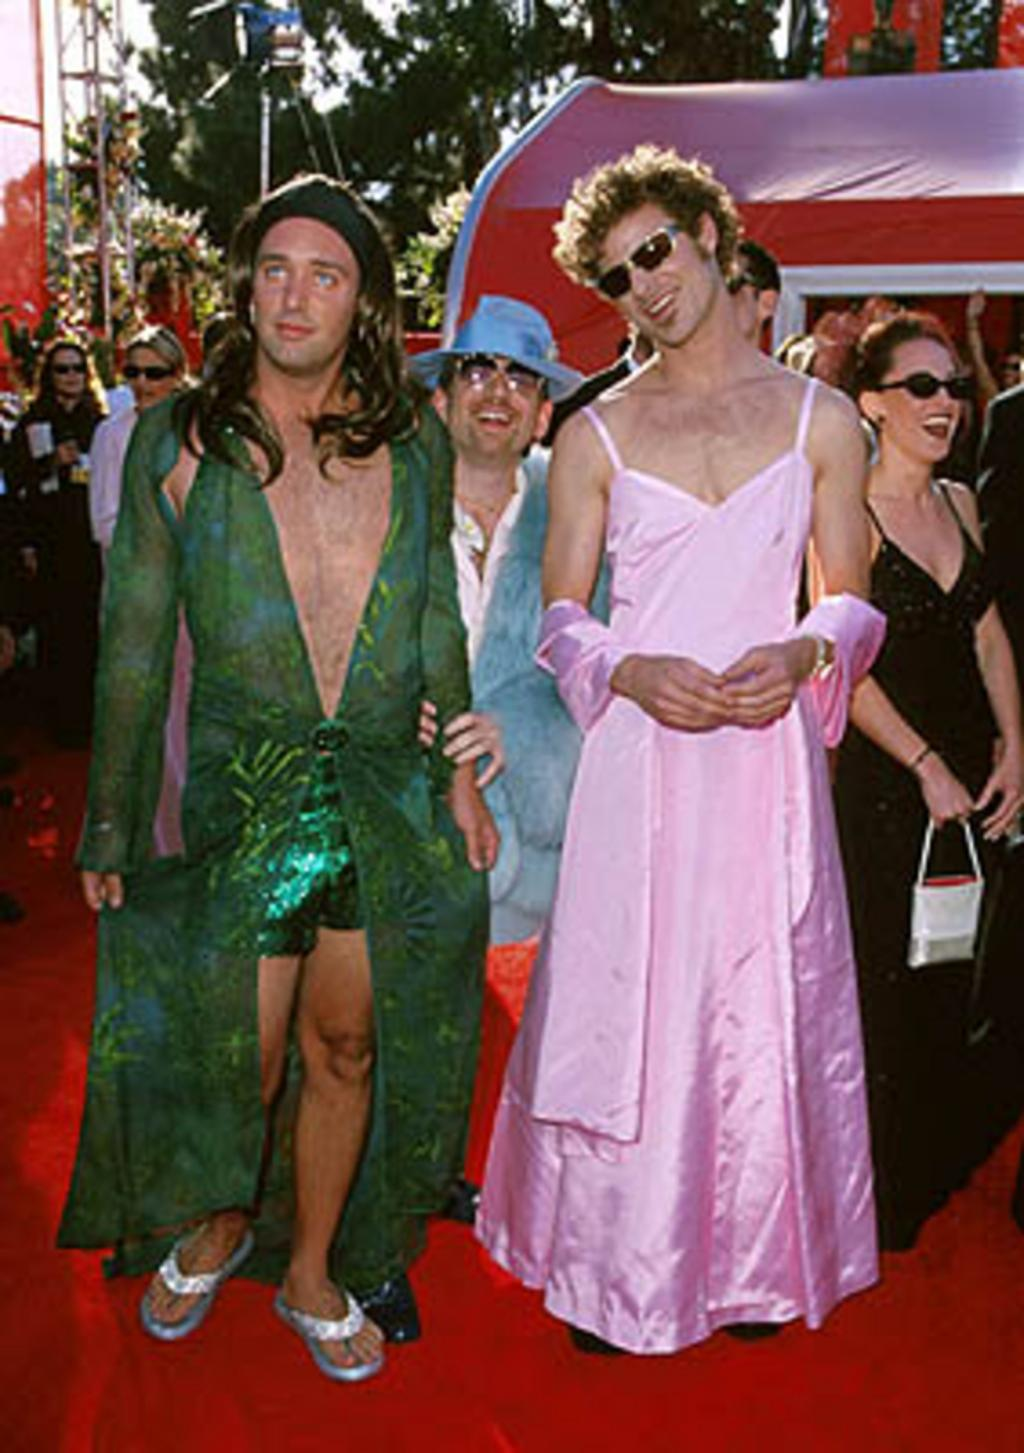face: (247, 215, 357, 369), (591, 204, 700, 343), (454, 340, 534, 454), (885, 345, 960, 459), (699, 250, 757, 333), (127, 350, 170, 409), (52, 355, 84, 393)
